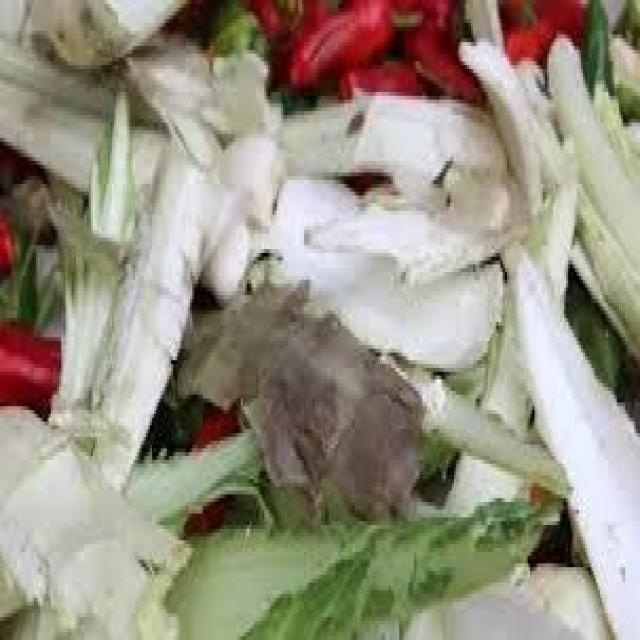organic waste: (0, 0, 638, 636), (0, 0, 501, 364), (156, 491, 608, 636), (175, 268, 422, 518), (460, 38, 638, 356), (439, 130, 581, 510), (503, 245, 638, 636), (260, 157, 503, 368), (0, 402, 190, 636), (91, 134, 205, 491), (273, 81, 511, 203), (50, 73, 126, 448), (545, 35, 638, 268), (110, 27, 272, 153), (400, 556, 610, 636), (131, 433, 272, 537), (281, 0, 422, 96), (8, 161, 93, 284), (412, 360, 492, 479), (399, 0, 479, 107), (501, 0, 589, 69), (0, 310, 61, 402), (338, 54, 437, 104), (249, 0, 338, 54), (576, 0, 612, 115), (4, 222, 46, 318), (203, 4, 268, 61), (604, 15, 638, 123), (464, 0, 502, 50), (0, 203, 25, 272)
